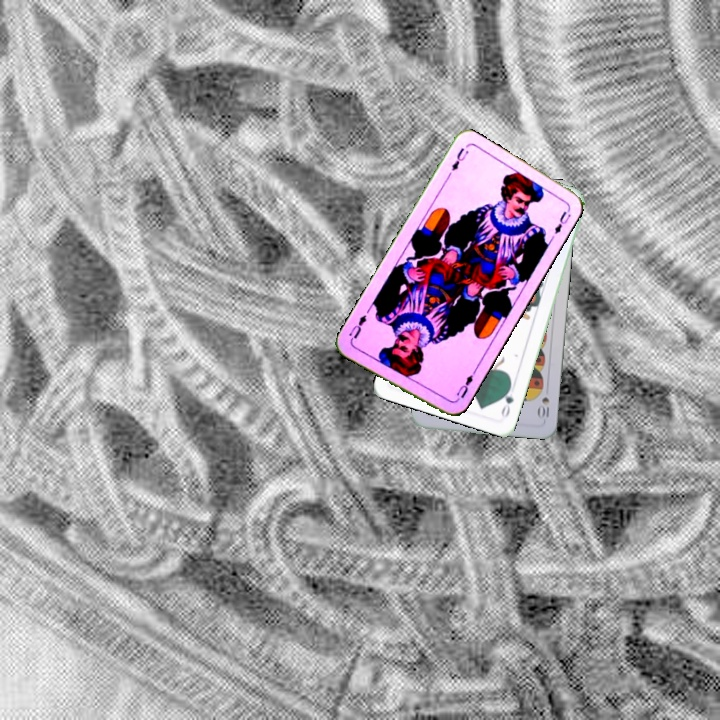EU: (452, 367, 478, 401), (448, 144, 471, 174)
GO: (497, 380, 516, 420)
S10: (535, 393, 552, 421)
